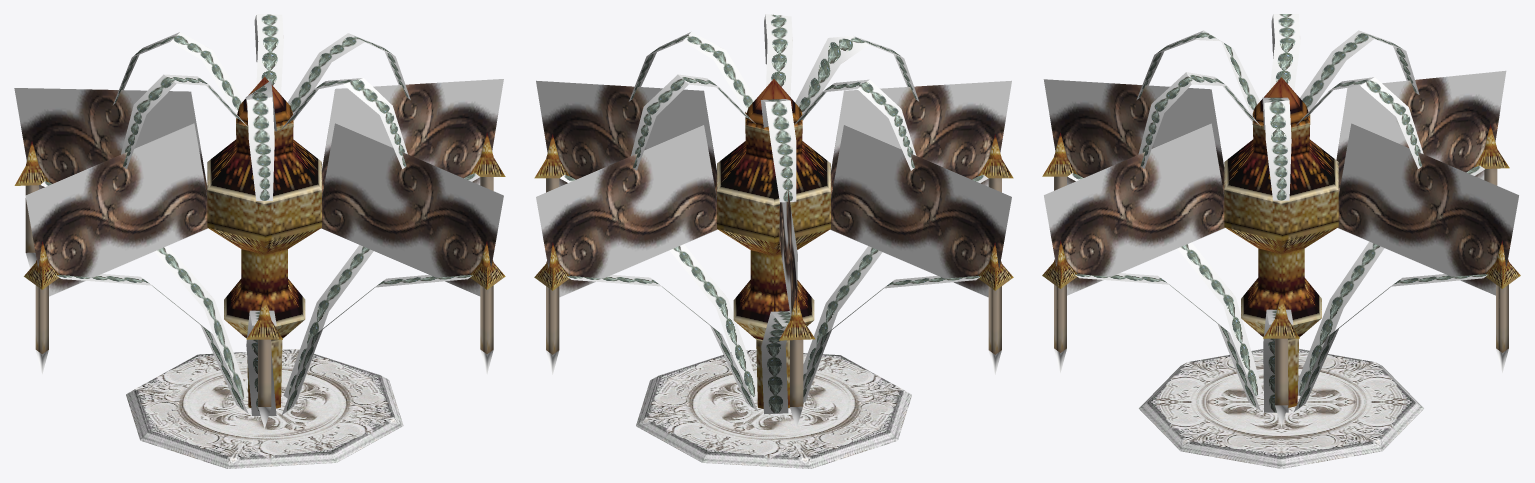
File: chandelier.fbx
The picture shows the model from 3 angles, left to right: view 1: azimuth 30°, elevation 25°; view 2: azimuth 150°, elevation 25°; view 3: azimuth 270°, elevation 25°; orthographic projection.
Parts seen in each view (by area): view 1: mesh_2, mesh_0, mesh_1, mesh_10, mesh_3, mesh_9, mesh_8, mesh_4, mesh_5, mesh_7; view 2: mesh_2, mesh_0, mesh_1, mesh_10, mesh_3, mesh_5, mesh_4, mesh_6, mesh_7, mesh_9; view 3: mesh_2, mesh_0, mesh_1, mesh_10, mesh_3, mesh_7, mesh_6, mesh_8, mesh_5, mesh_9.
Boxes of the visible parts, <box> form: mesh_2: <box>14,79,503,296</box>; mesh_0: <box>126,349,403,468</box>; mesh_1: <box>207,76,321,408</box>; mesh_10: <box>113,14,410,200</box>; mesh_3: <box>41,173,479,415</box>; mesh_9: <box>246,295,282,428</box>; mesh_8: <box>470,241,505,374</box>; mesh_4: <box>24,241,59,374</box>; mesh_5: <box>14,141,49,268</box>; mesh_7: <box>470,132,505,190</box>; mesh_2: <box>536,80,1011,316</box>; mesh_0: <box>636,350,911,468</box>; mesh_1: <box>717,79,830,408</box>; mesh_10: <box>629,14,918,202</box>; mesh_3: <box>560,175,988,414</box>; mesh_5: <box>779,296,815,428</box>; mesh_4: <box>978,242,1013,374</box>; mesh_6: <box>534,242,569,374</box>; mesh_7: <box>534,134,569,192</box>; mesh_9: <box>978,134,1013,192</box>; mesh_2: <box>1043,70,1518,295</box>; mesh_0: <box>1139,349,1423,468</box>; mesh_1: <box>1224,77,1338,407</box>; mesh_10: <box>1136,14,1423,200</box>; mesh_3: <box>1067,165,1487,412</box>; mesh_7: <box>1263,294,1299,427</box>; mesh_6: <box>1485,240,1520,372</box>; mesh_8: <box>1042,240,1077,372</box>; mesh_5: <box>1474,124,1509,185</box>; mesh_9: <box>1042,132,1077,190</box>.
Bounding box in the file's own units: 250 × 180 × 218.
3 materials, 3 textured.
